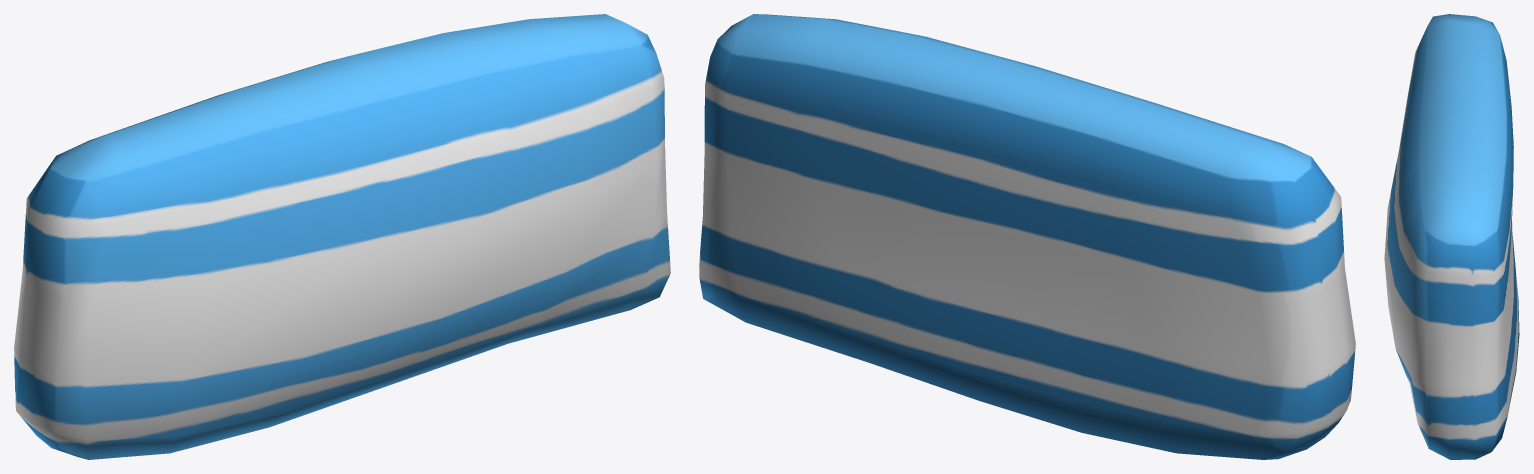
File: housepack_pillow_1.FBX
The picture shows the model from 3 angles, left to right: view 1: azimuth 30°, elevation 25°; view 2: azimuth 150°, elevation 25°; view 3: azimuth 270°, elevation 25°; orthographic projection. The views are drawn at different scales.
Parts seen in each view (by area): view 1: housepack_pillow_1; view 2: housepack_pillow_1; view 3: housepack_pillow_1.
Boxes of the visible parts, x1,y1,x2,y2 form: housepack_pillow_1: (14,14,670,459); housepack_pillow_1: (699,14,1355,459); housepack_pillow_1: (1384,14,1519,459).
Bounding box in the file's own units: 48.75 × 24.18 × 11.07.
